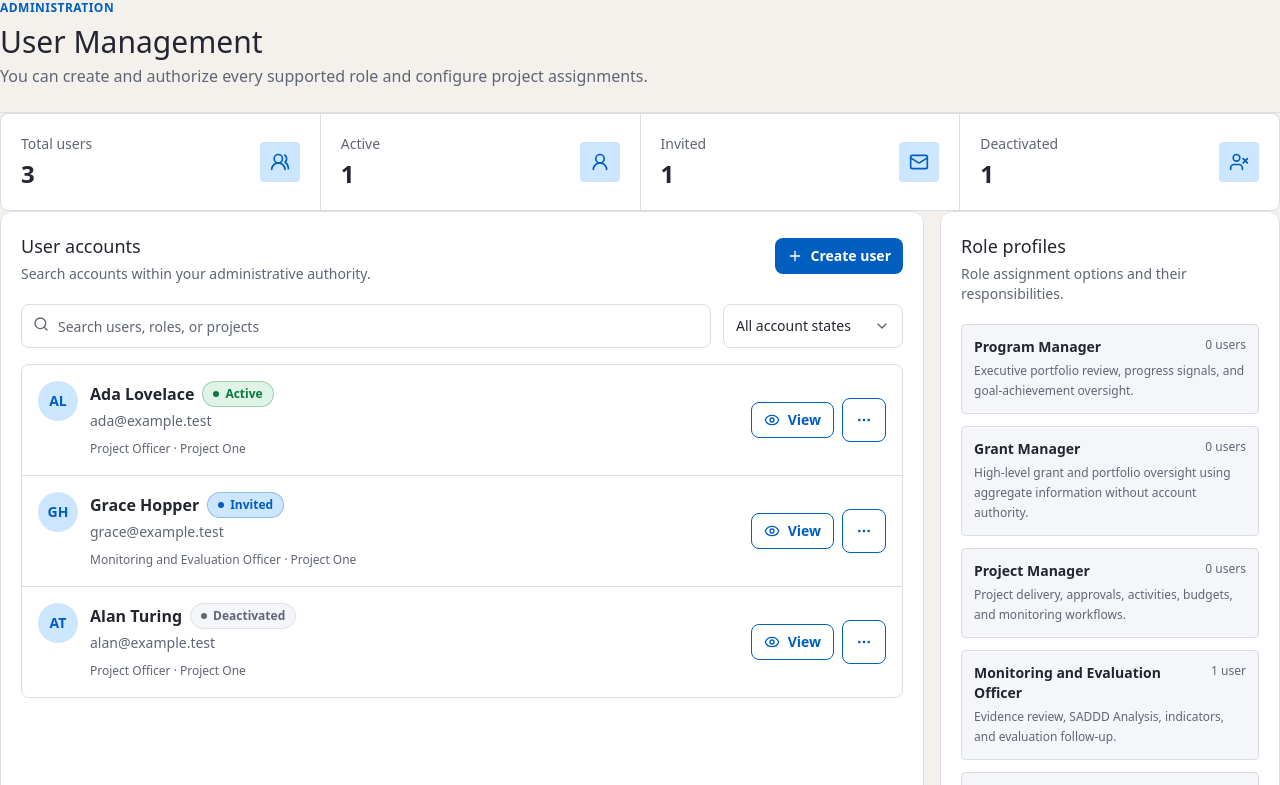
Test case: user management: account actions › closes the create dialog and confirms with a toast after authorizing
Expected: the list named "User accounts" is shown, [21,364,903,698]
Click the button "Create user".
click(839, 256)  # box [774,238,903,274]
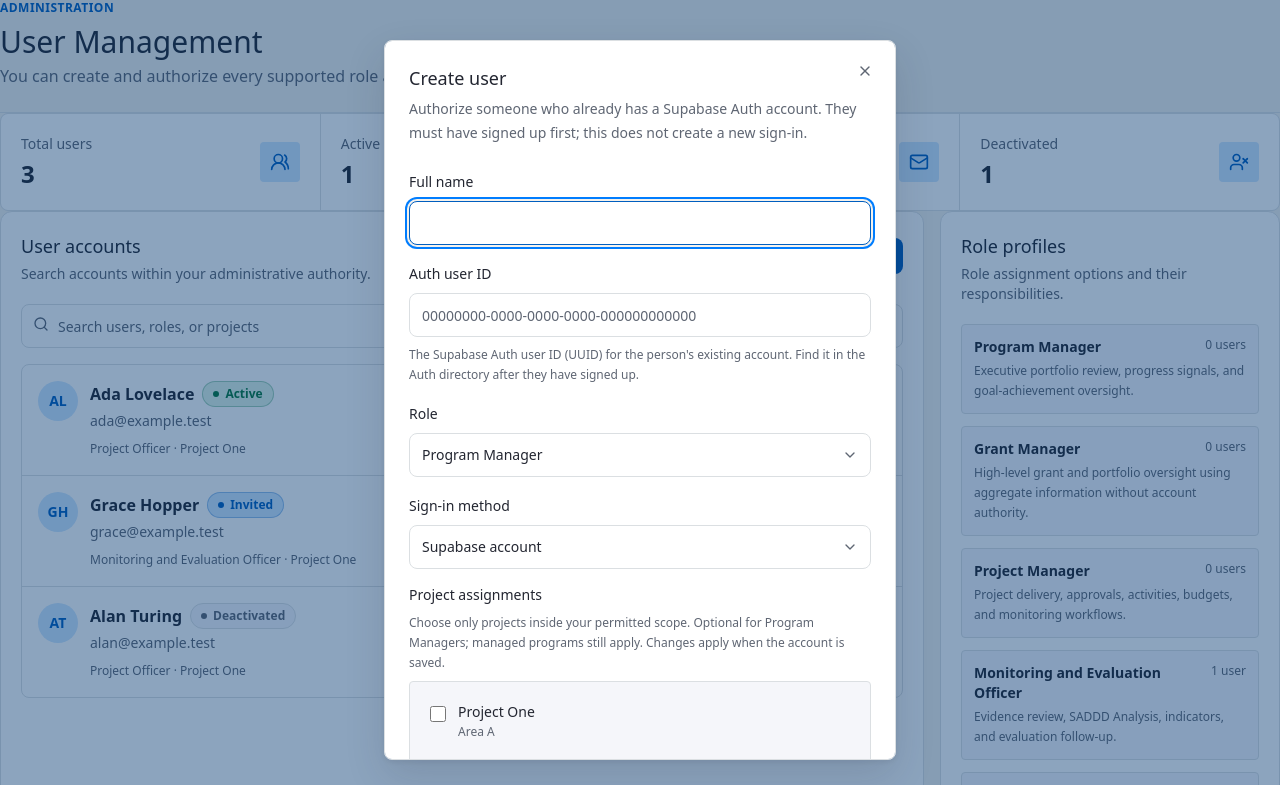
Type "Grace Hopper" into the field labelled "Full name".
click(640, 223); type("Grace Hopper")  # box [409,201,871,245]
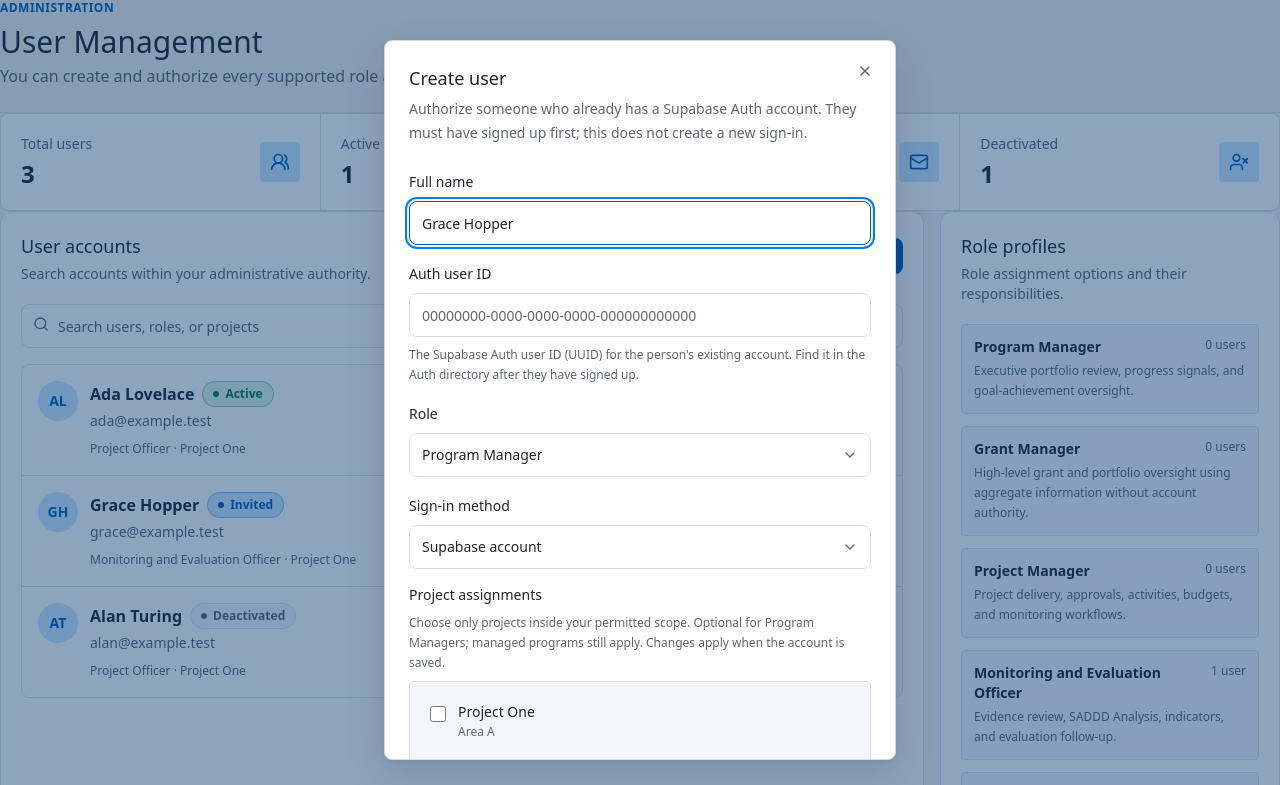
Type "11111111-1111-1111-1111-111111111111" into the field labelled "Auth user ID".
click(640, 315); type("11111111-1111-1111-1111-111111111111")  # box [409,293,871,337]
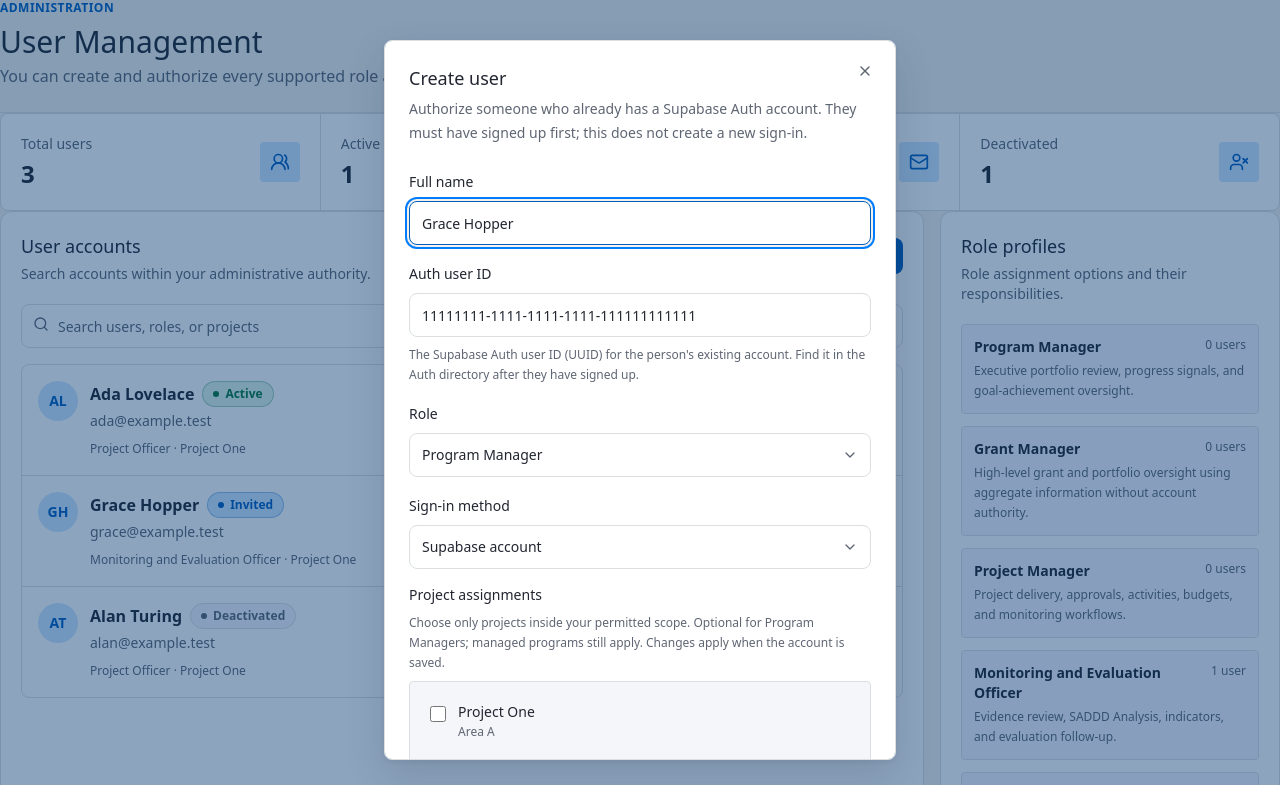
Click the checkbox named "Assign Project One".
click(438, 714)  # box [430,706,446,722]
(page scrolled)
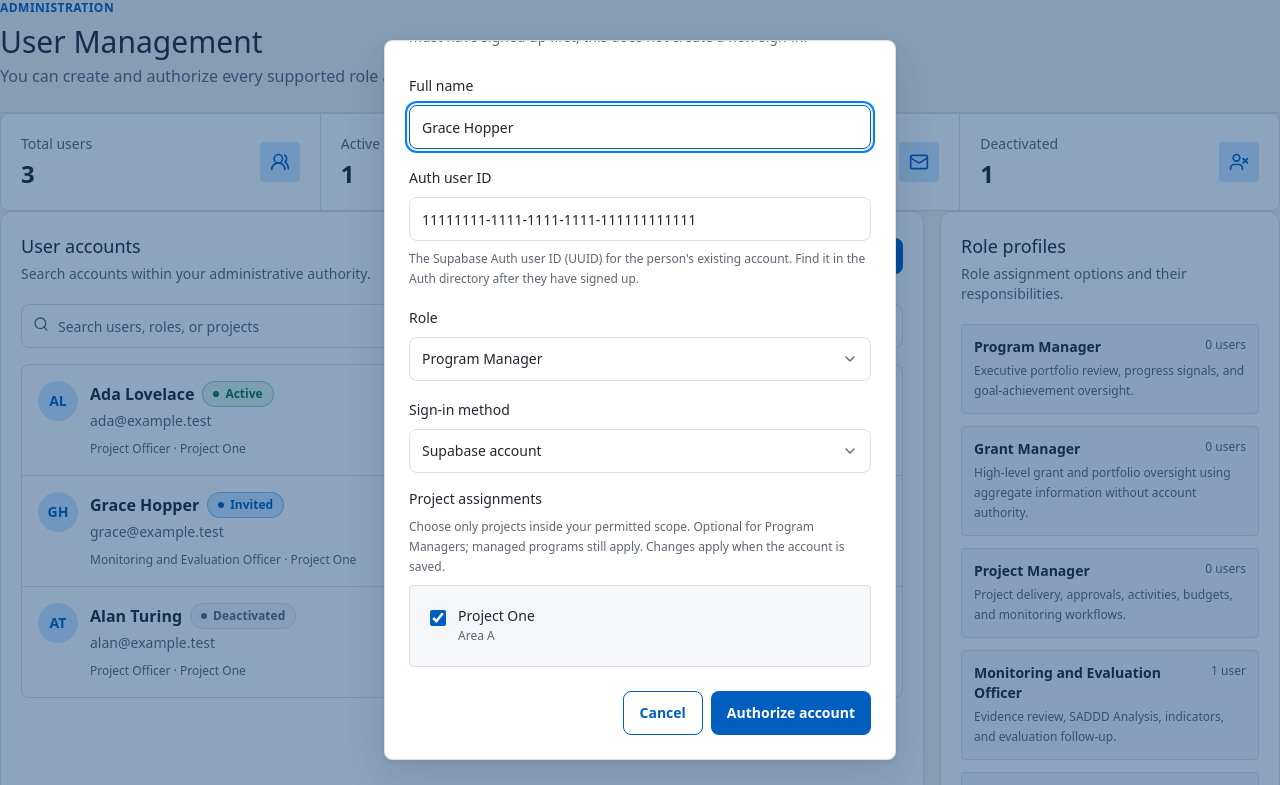
Click the button "Authorize account".
click(791, 713)  # box [711,691,871,735]
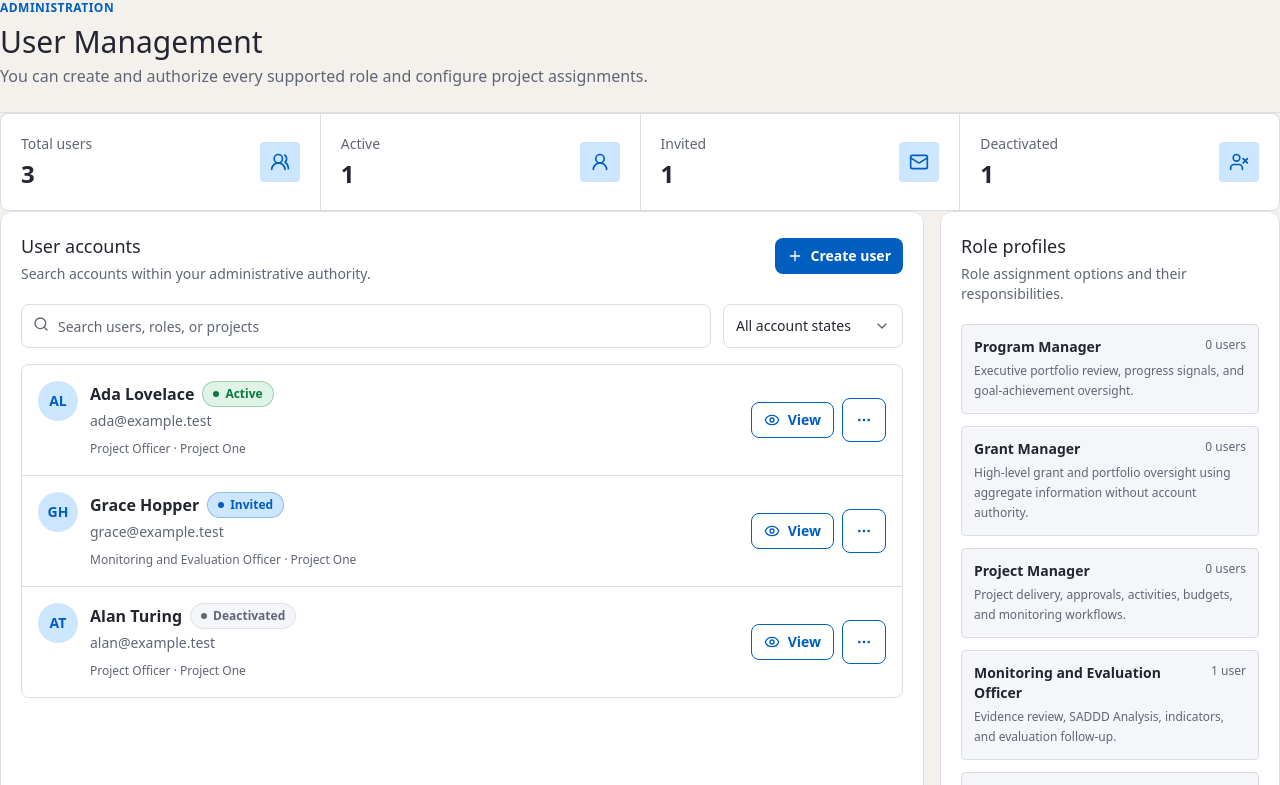
Now the label labelled "Auth user ID" is gone
